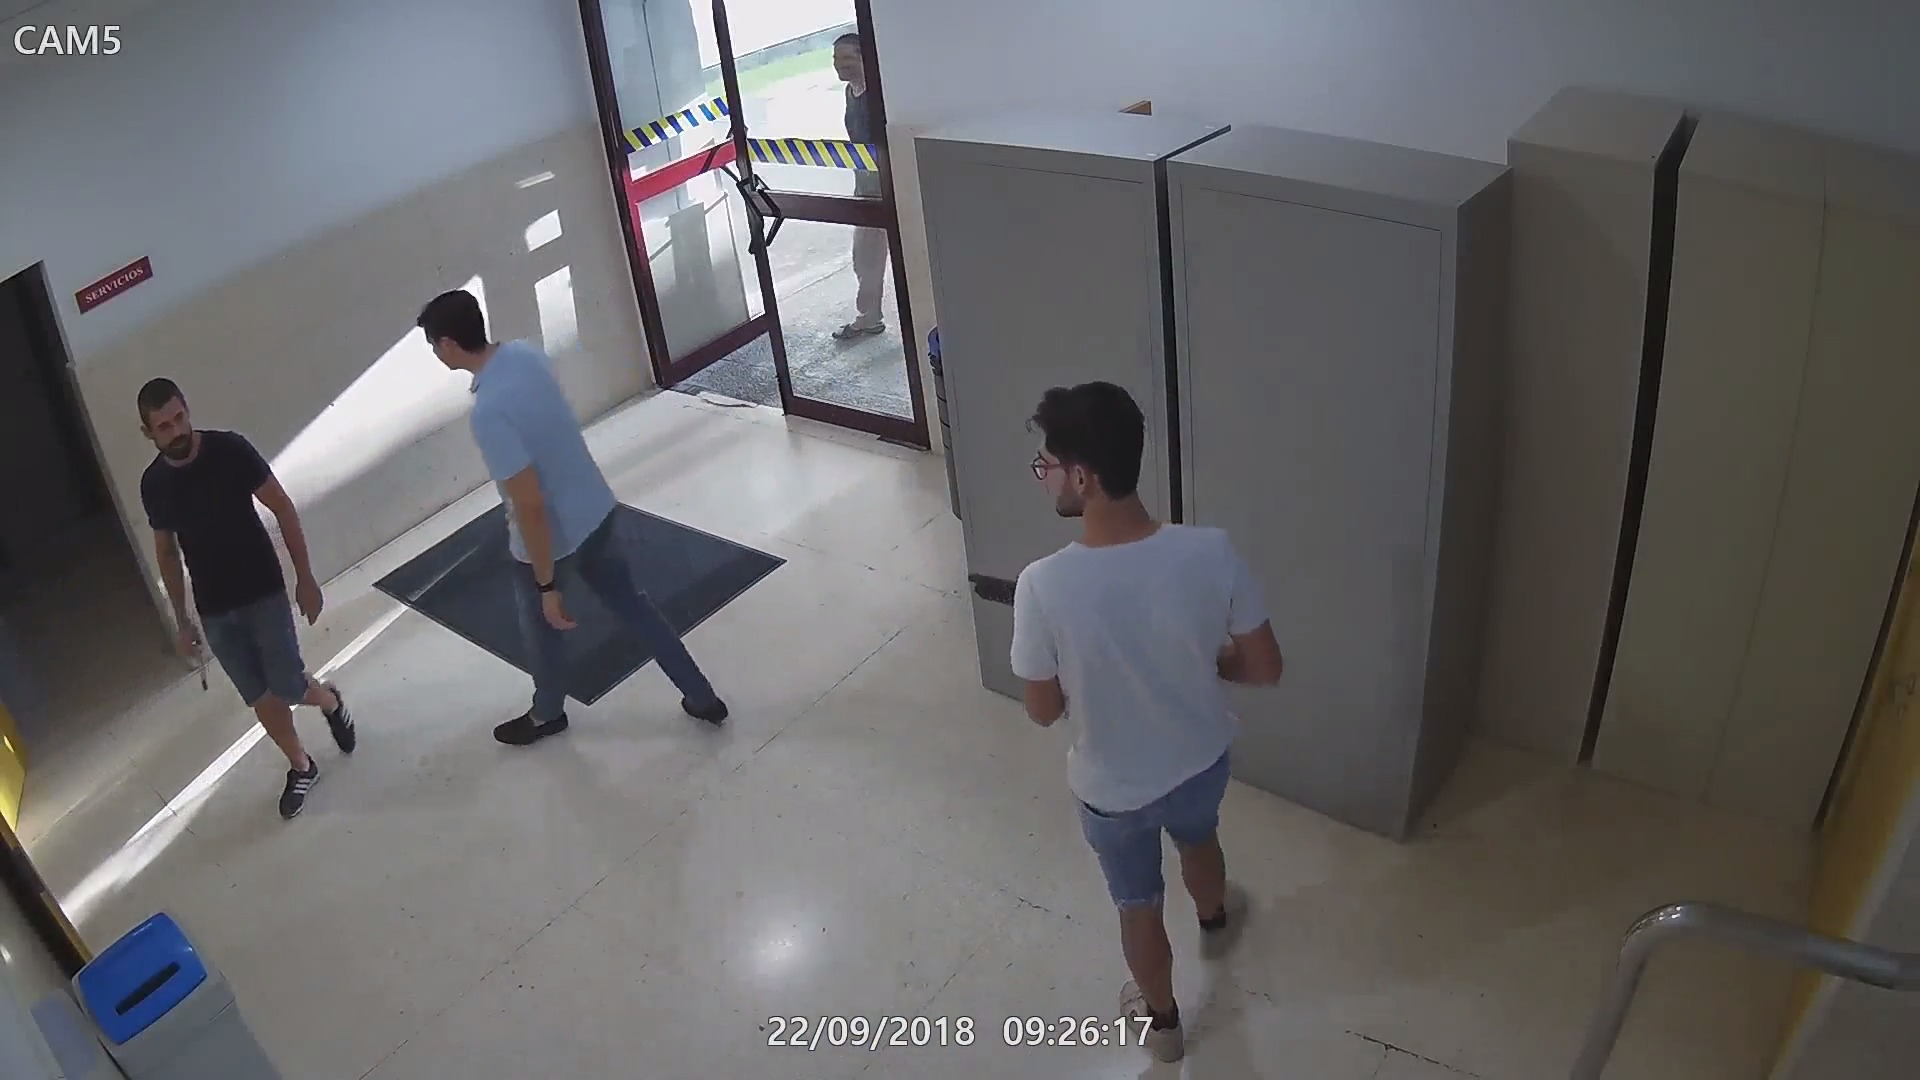Handgun: (178, 618, 218, 696)
Short_rifle: (956, 567, 1015, 607)
